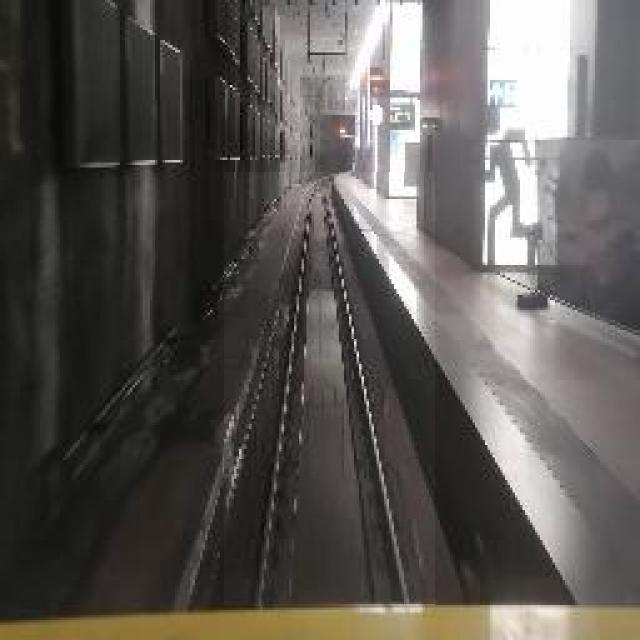rail: (226, 174, 436, 607)
